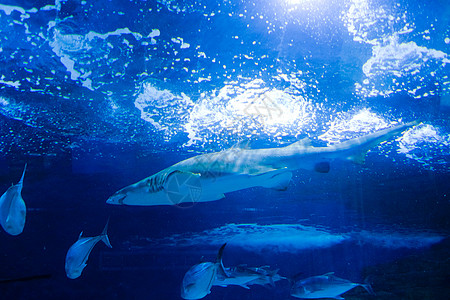shark: (102, 110, 426, 216)
